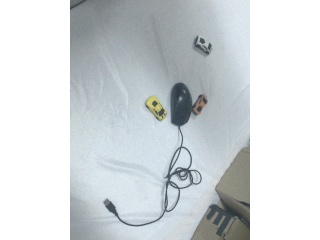box: (214, 146, 250, 227), (183, 202, 249, 240)
mouse: (169, 82, 193, 127)
toy_car: (145, 95, 167, 122), (194, 35, 212, 54), (192, 95, 208, 116)
